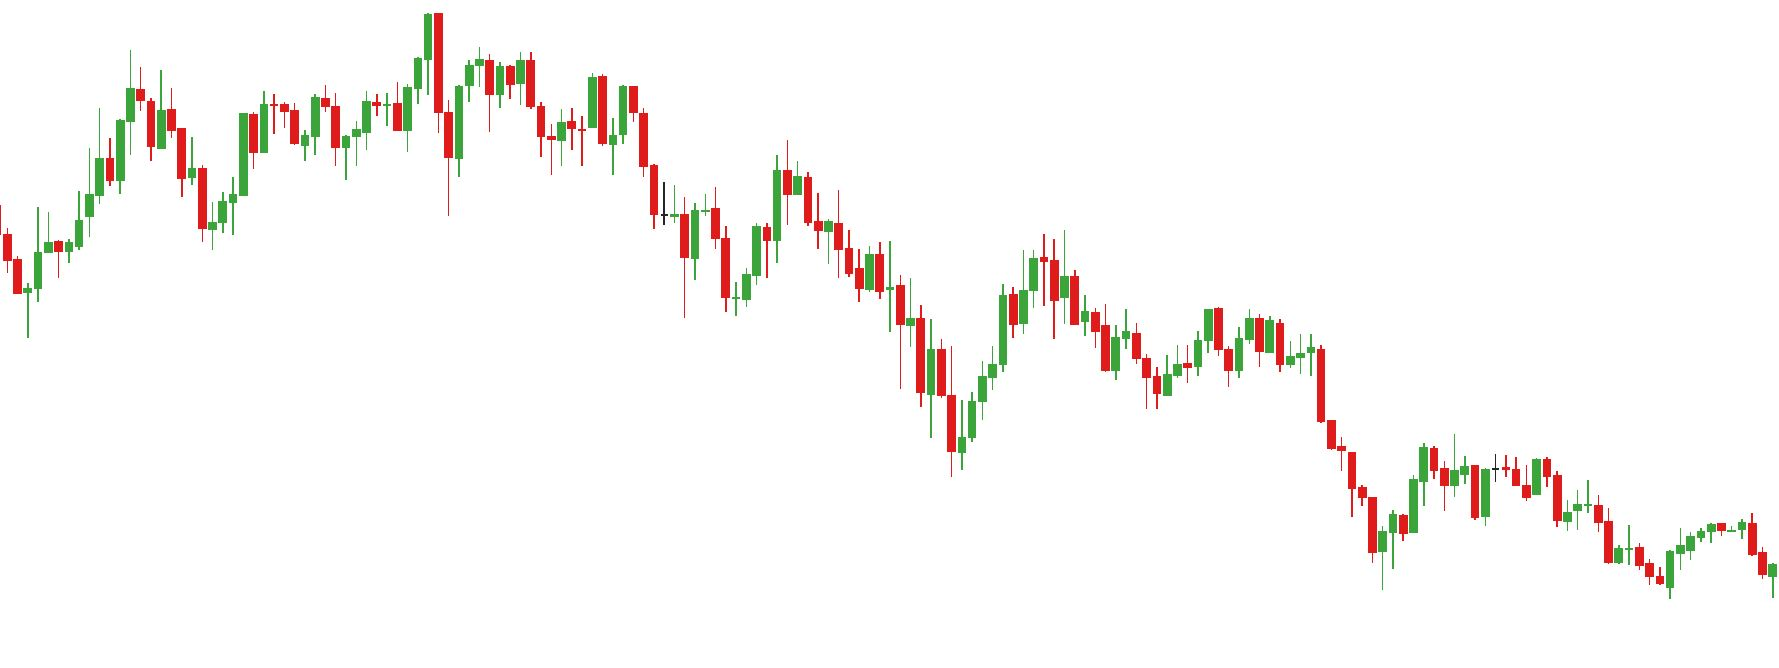sell: (678, 143, 794, 256)
